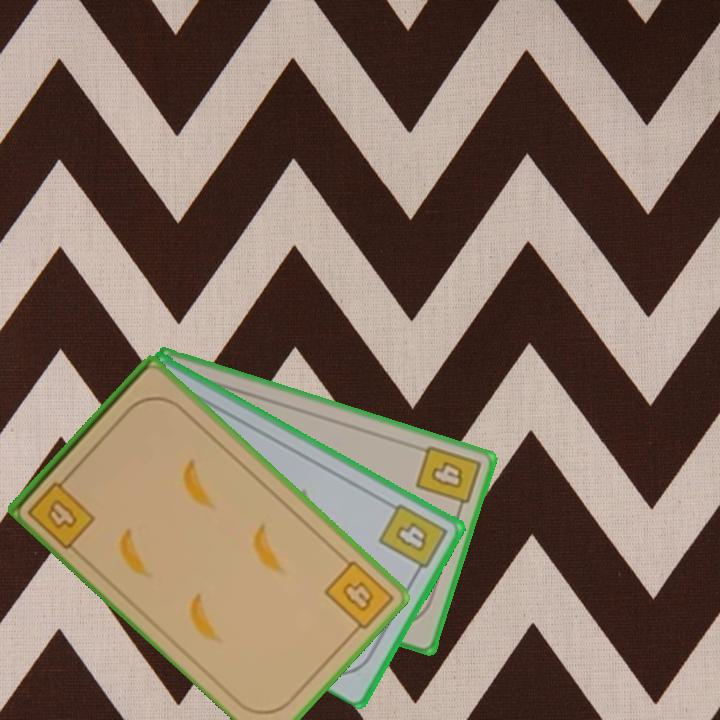4b: (321, 556, 396, 638), (24, 469, 98, 552), (374, 499, 450, 579), (412, 441, 484, 517)
